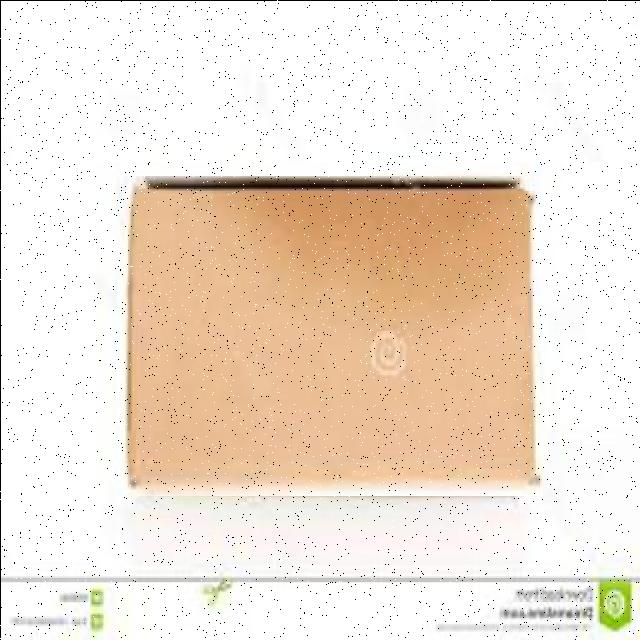normal: (116, 175, 542, 496)
